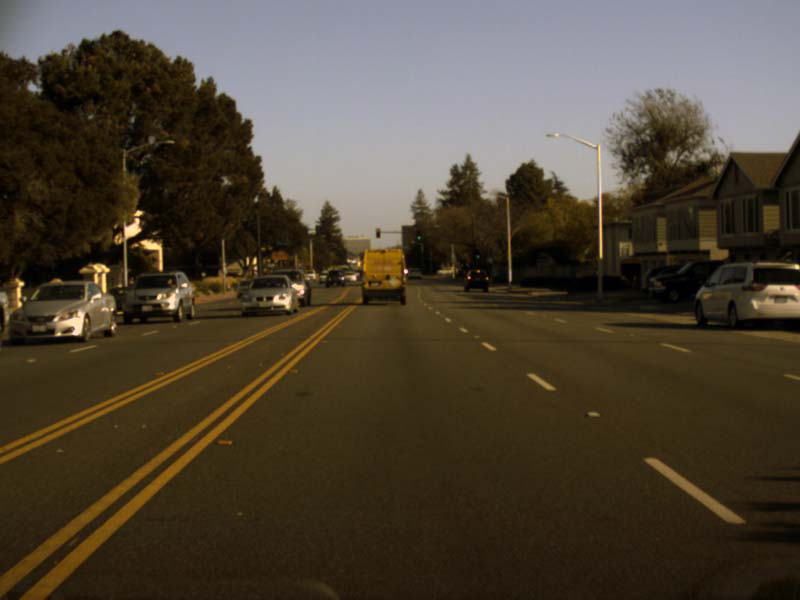Green: (474, 248, 480, 259), (417, 230, 420, 240)
Red: (375, 228, 380, 237)
